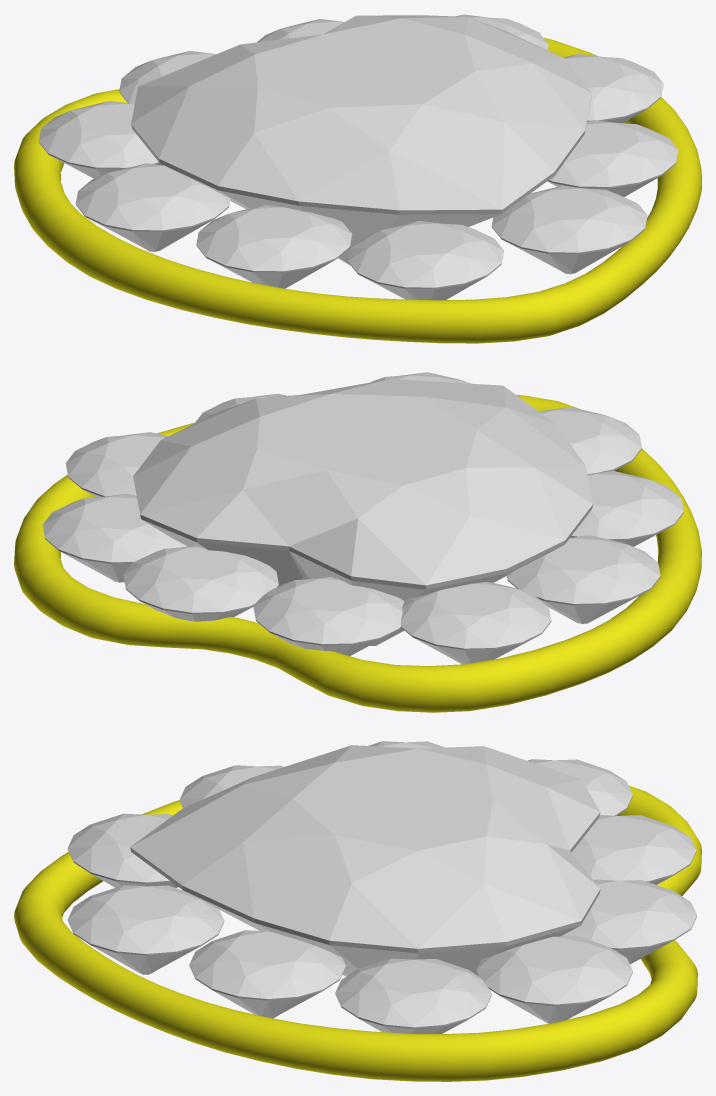
The model's file is Ring_accessories.fbx.
The picture shows the model from 3 angles, top to bottom: view 1: azimuth 30°, elevation 25°; view 2: azimuth 150°, elevation 25°; view 3: azimuth 270°, elevation 25°; orthographic projection. The views are drawn at different scales.
Parts seen in each view (by area): view 1: Diamonds, Border, Diamonds.008, Diamonds.007, Diamonds.002, Diamonds.001, Diamonds.005, Diamonds.003, Diamonds.004, Diamonds.009, Diamonds.010, Diamonds.006; view 2: Diamonds, Border, Diamonds.003, Diamonds.010, Diamonds.009, Diamonds.001, Diamonds.006, Diamonds.002, Diamonds.004, Diamonds.007, Diamonds.008; view 3: Diamonds, Border, Diamonds.008, Diamonds.005, Diamonds.006, Diamonds.004, Diamonds.010, Diamonds.009, Diamonds.007, Diamonds.003, Diamonds.002.
Part boxes in pixels (x1,y1,x2,y2): Diamonds: [131, 15, 591, 265]; Border: [14, 37, 701, 343]; Diamonds.008: [491, 185, 647, 274]; Diamonds.007: [348, 221, 503, 300]; Diamonds.002: [196, 205, 352, 288]; Diamonds.001: [75, 163, 230, 251]; Diamonds.005: [547, 120, 678, 196]; Diamonds.003: [38, 101, 162, 178]; Diamonds.004: [564, 54, 663, 123]; Diamonds.009: [119, 51, 216, 103]; Diamonds.010: [257, 19, 344, 42]; Diamonds.006: [456, 14, 548, 49]; Diamonds: [133, 379, 592, 645]; Border: [14, 395, 701, 712]; Diamonds.003: [400, 582, 551, 664]; Diamonds.010: [123, 546, 278, 621]; Diamonds.009: [253, 576, 403, 655]; Diamonds.001: [506, 535, 660, 624]; Diamonds.006: [42, 493, 187, 582]; Diamonds.002: [570, 471, 683, 546]; Diamonds.004: [65, 432, 167, 497]; Diamonds.007: [538, 407, 641, 473]; Diamonds.008: [371, 372, 470, 383]; Diamonds: [130, 745, 600, 976]; Border: [14, 785, 701, 1081]; Diamonds.008: [67, 885, 224, 974]; Diamonds.005: [189, 930, 345, 1018]; Diamonds.006: [476, 936, 632, 1023]; Diamonds.004: [335, 958, 491, 1033]; Diamonds.010: [561, 879, 696, 964]; Diamonds.009: [571, 815, 696, 884]; Diamonds.007: [67, 813, 177, 887]; Diamonds.003: [527, 759, 632, 815]; Diamonds.002: [179, 765, 283, 808].
Bounding box in the file's own units: 437 × 139 × 426.
